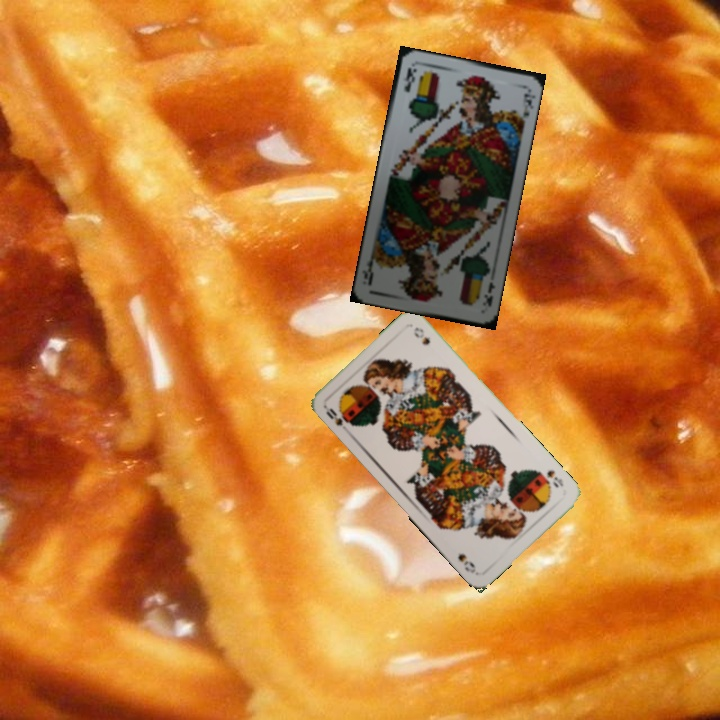EK: (400, 63, 419, 95), (480, 278, 498, 310)
SO: (321, 403, 356, 430), (535, 466, 566, 490)
